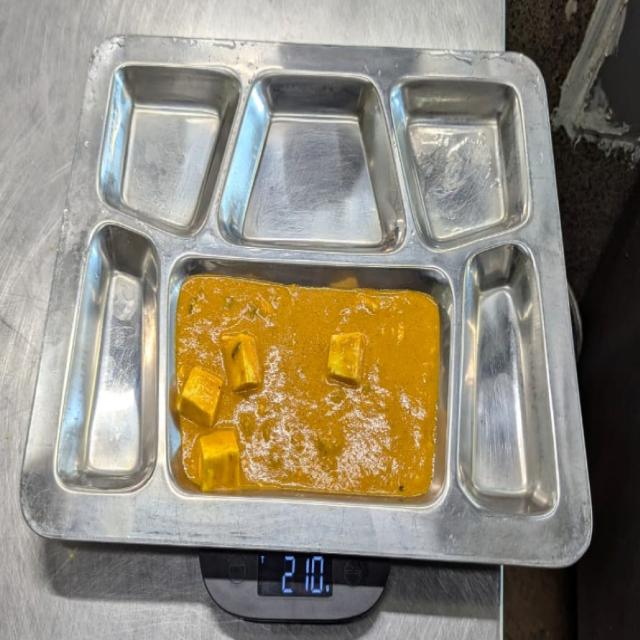Paneer Curry: (170, 272, 438, 502)
